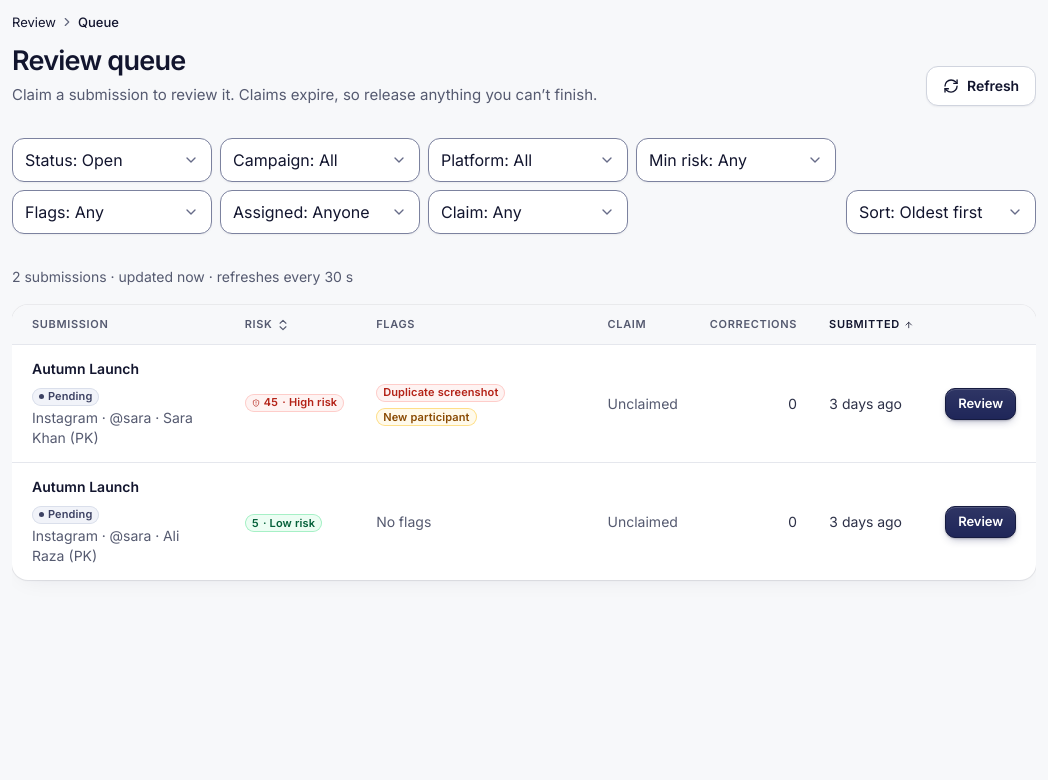
it: QueuePage › offers campaigns from /campaigns/options and a "Claimed by me" filter
Select "Summer Sale" in the 2nd dropdown named "Campaign": (320, 160) [220,138,420,182]
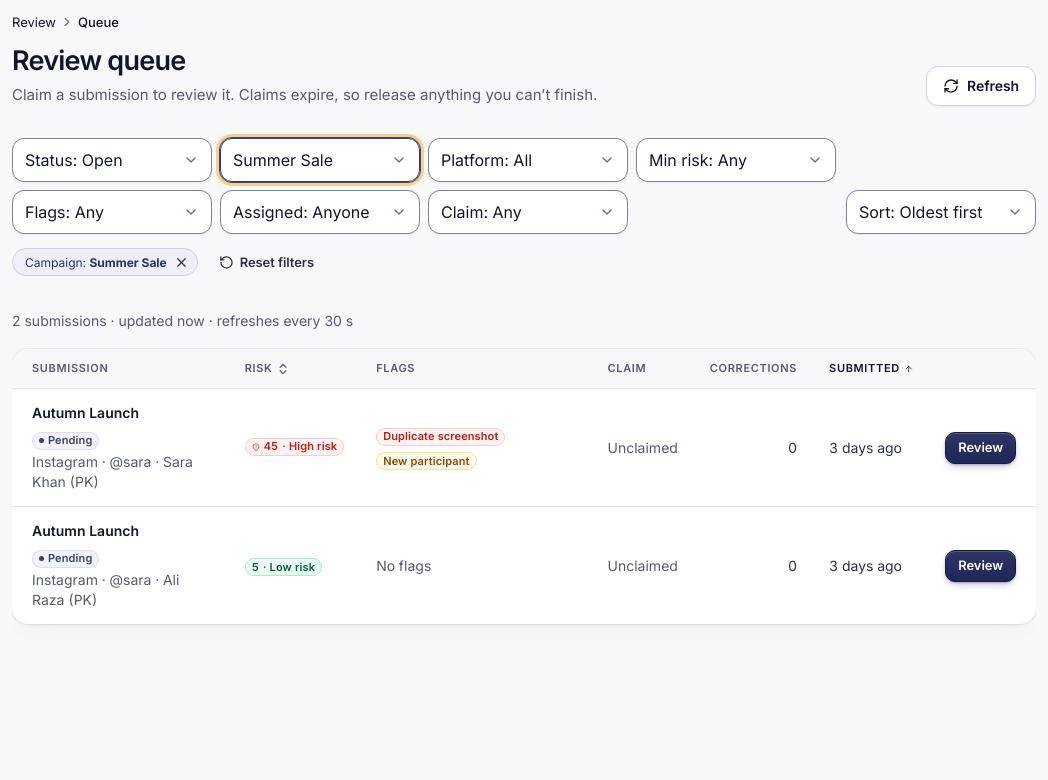
Select "Claimed by me" in the 7th dropdown named "Claim": (528, 212) [428,190,628,234]
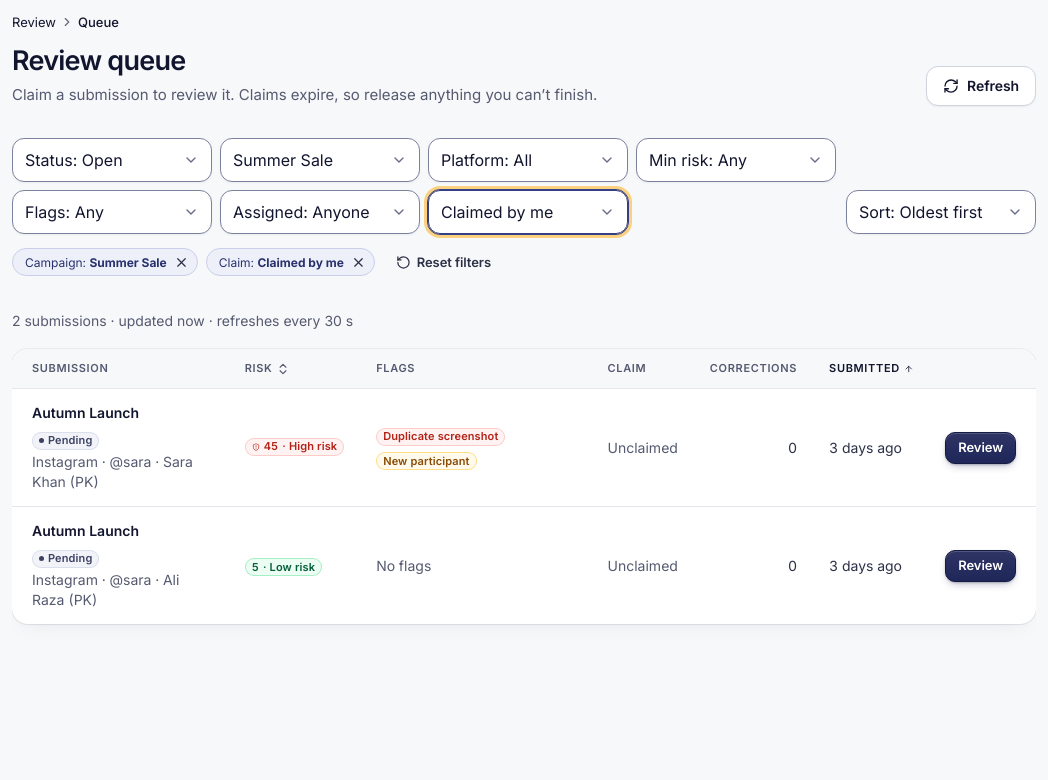
Now the list named "Active filters" shows "Claim: Claimed by me", box [12,248,375,276]
